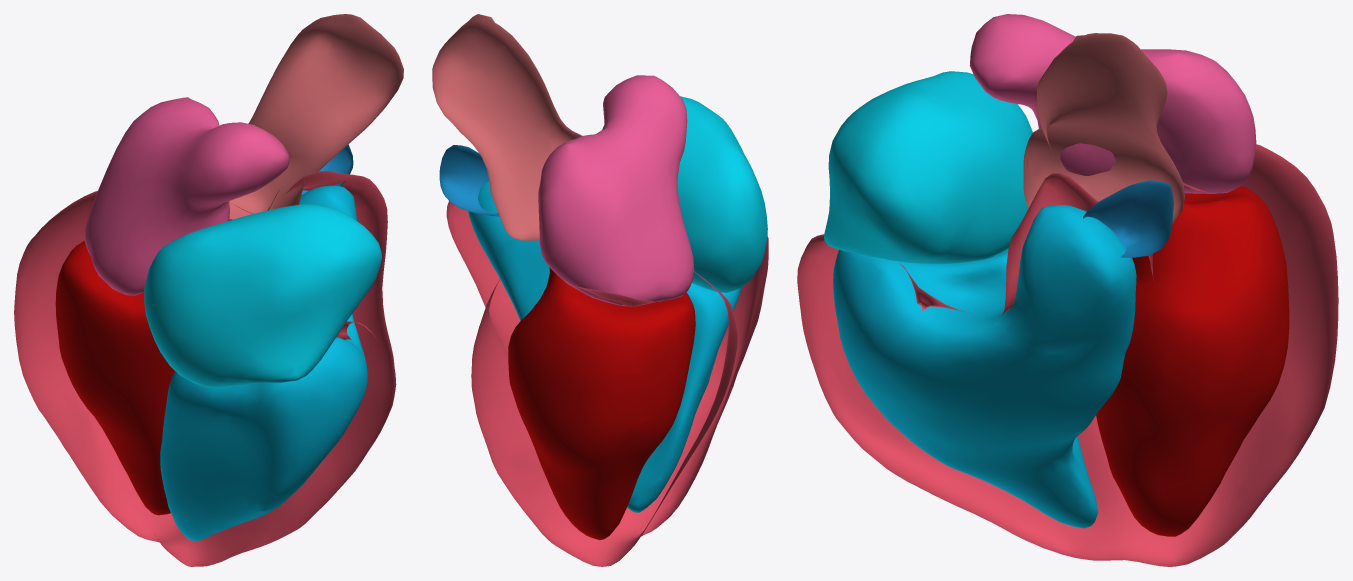
Rendered from frame_3.glb.
3 views of the same model, side by side, from view 1: azimuth 30°, elevation 25°; view 2: azimuth 150°, elevation 25°; view 3: azimuth 270°, elevation 25° (orthographic). The views are drawn at different scales.
Parts seen in each view (by area): view 1: Renderer Node; view 2: Renderer Node; view 3: Renderer Node.
Boxes of the visible parts, x1=… form: Renderer Node: x1=14, y1=14, x2=403, y2=566; Renderer Node: x1=432, y1=14, x2=768, y2=566; Renderer Node: x1=797, y1=14, x2=1338, y2=566.
Size of the model in its own units: 110 by 163 by 129.
